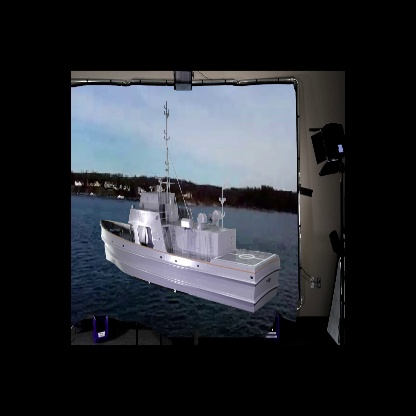YP689: (100, 101, 280, 315)
